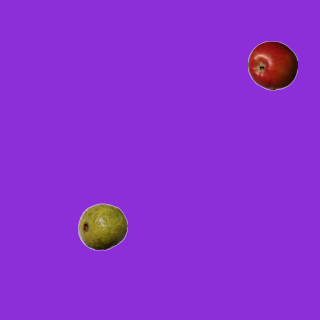Apple Braeburn: (247, 40, 297, 90)
Guava: (77, 201, 127, 251)
